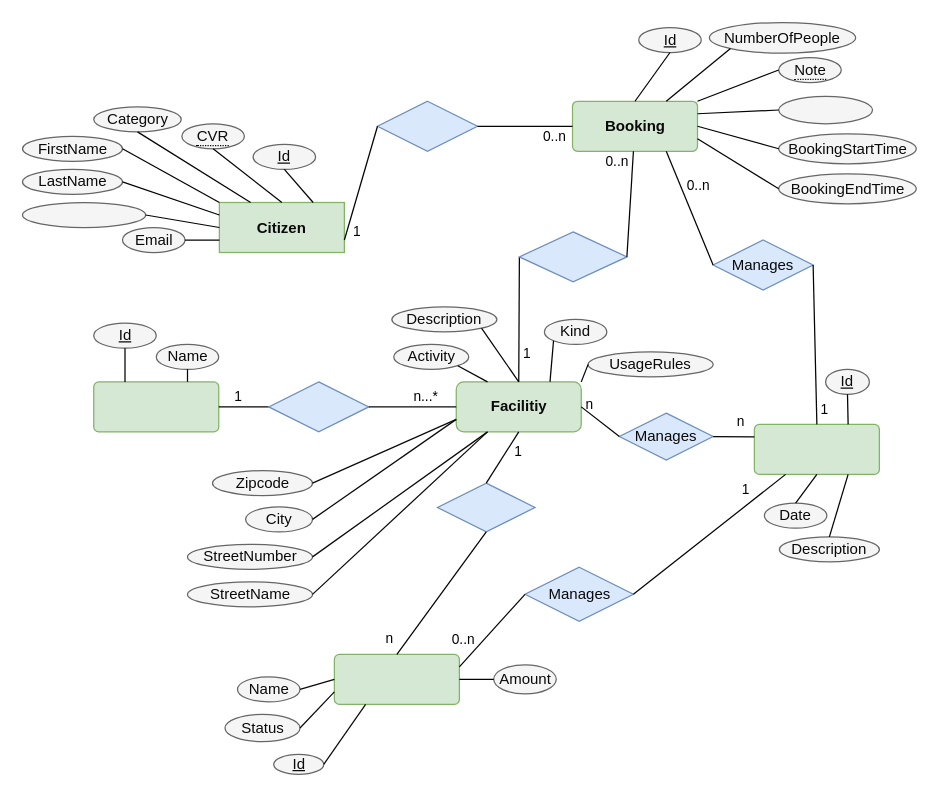
This 938x796 diagram has some shape labels left out. Each missing label, with the box of its shape:
Contains: (436, 482, 535, 532)
Creates: (376, 100, 478, 151)
Document: (778, 95, 872, 124)
Has: (268, 381, 369, 432)
Item: (333, 653, 459, 704)
Maintenance Intervention: (753, 423, 879, 474)
Municipality: (92, 381, 219, 432)
PhoneNumber: (21, 201, 146, 228)
Reserves-a: (518, 231, 627, 282)
